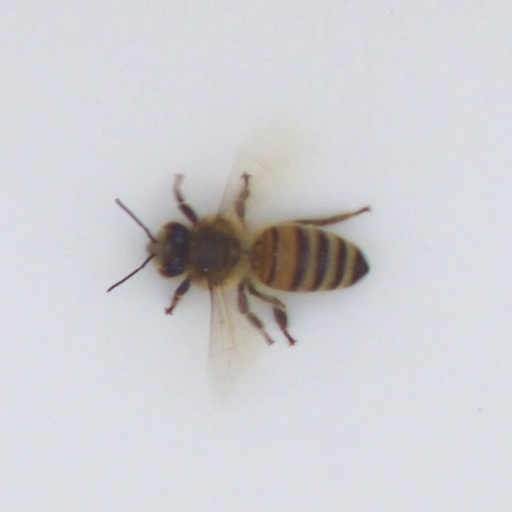Bee: (162, 231, 355, 286)
Thorax: (188, 221, 249, 290)
